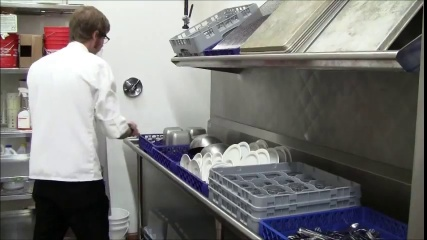person: (21, 5, 140, 240)
